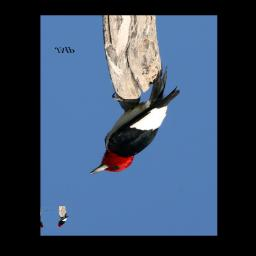Woodpecker: (81, 65, 188, 175)
